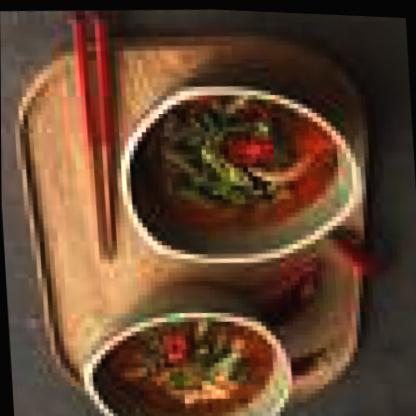young radish Kimchi: (120, 83, 353, 274), (86, 292, 295, 415)
